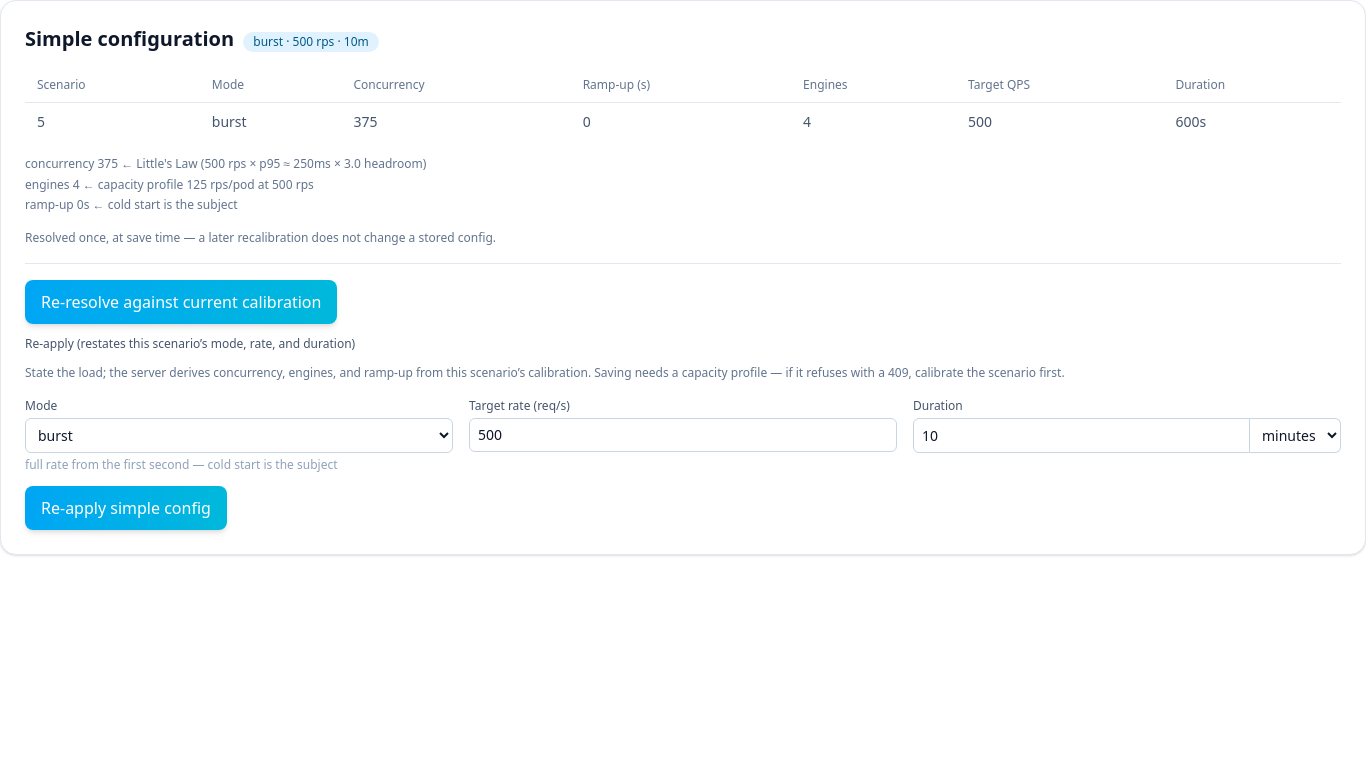
it: ModeConfigCard re-resolve (phase 91) › confirms inline, POSTs the re-resolve, and renders the old → new diff
Click the button with test id "mode-reresolve". click: (181, 302)
box: [25,280,337,324]
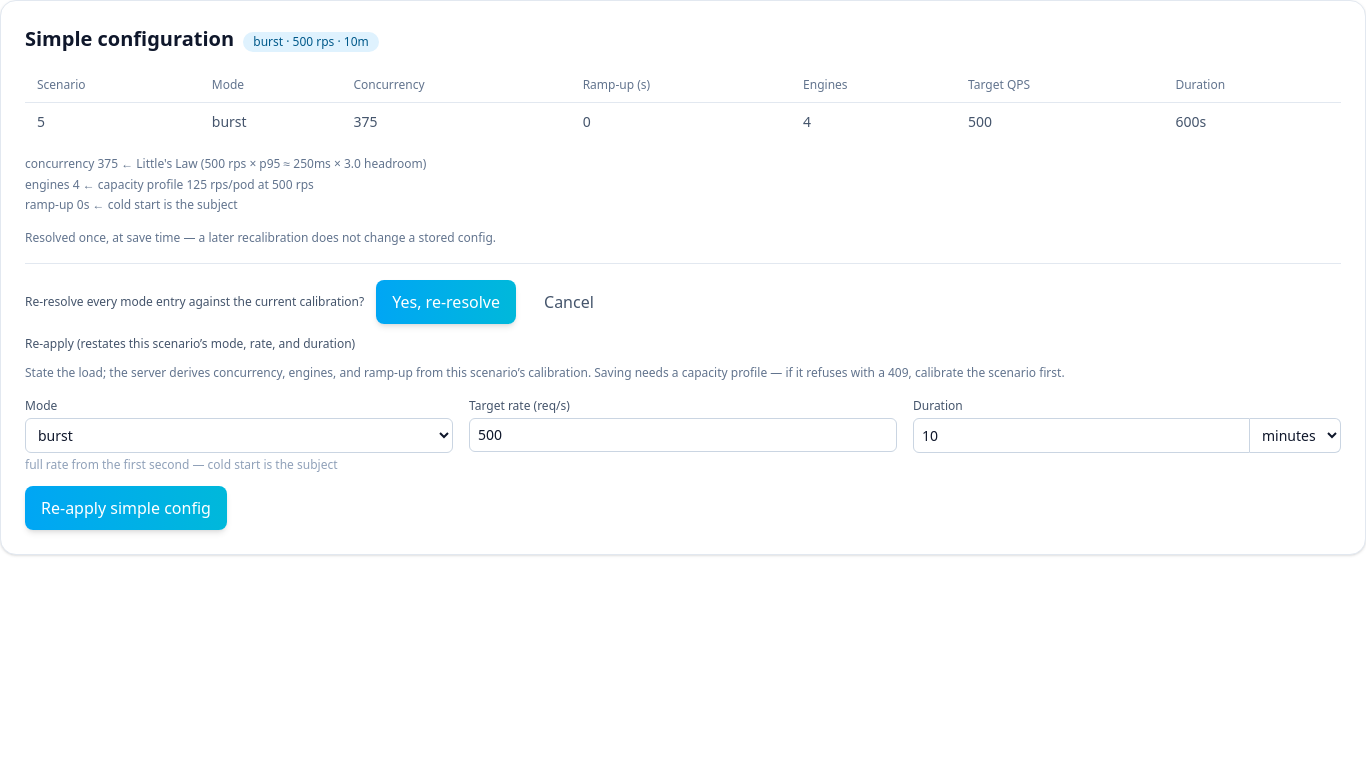
Result: the button with test id "mode-reresolve-confirm" is shown at [376,280,516,324]
Click the button with test id "mode-reresolve-cancel". click: (569, 302)
box: [528,280,610,324]
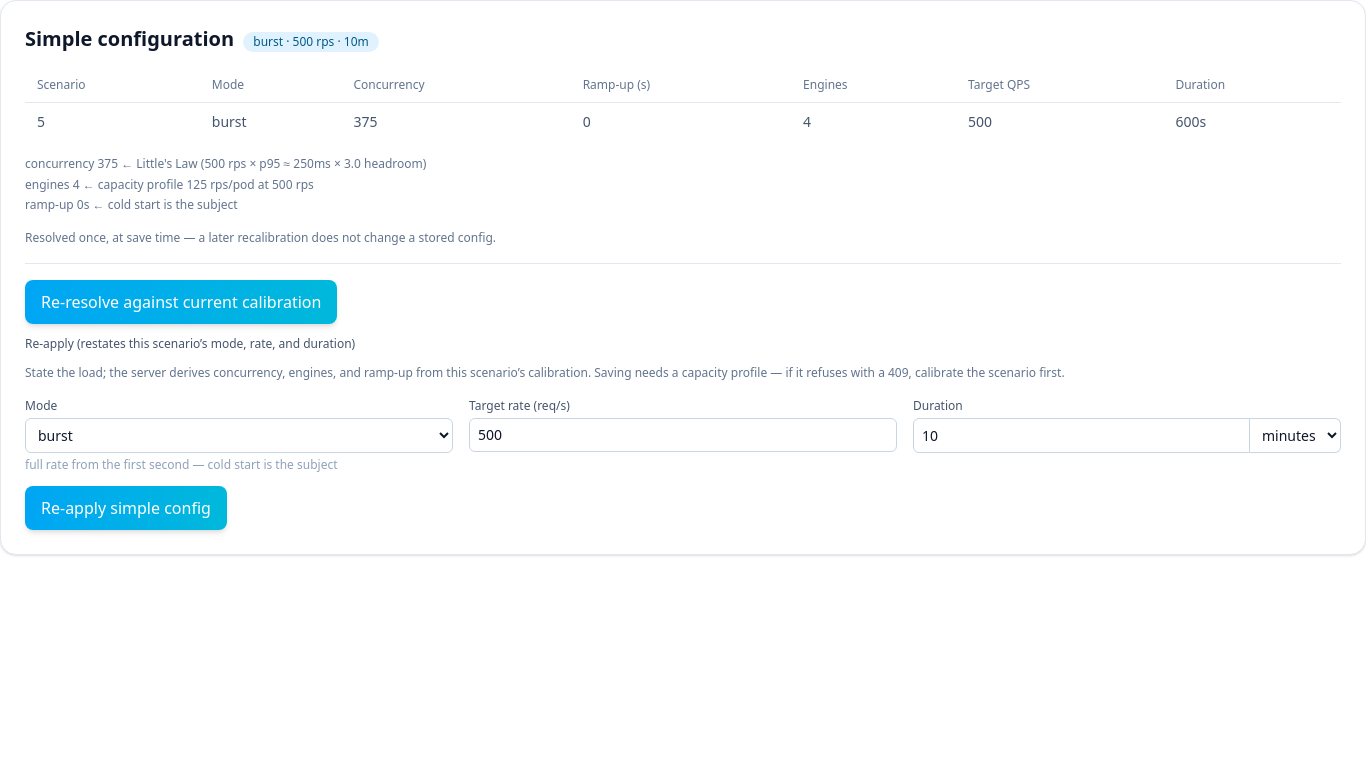
Result: the button with test id "mode-reresolve-confirm" is gone
Click the button with test id "mode-reresolve". click: (181, 302)
box: [25,280,337,324]
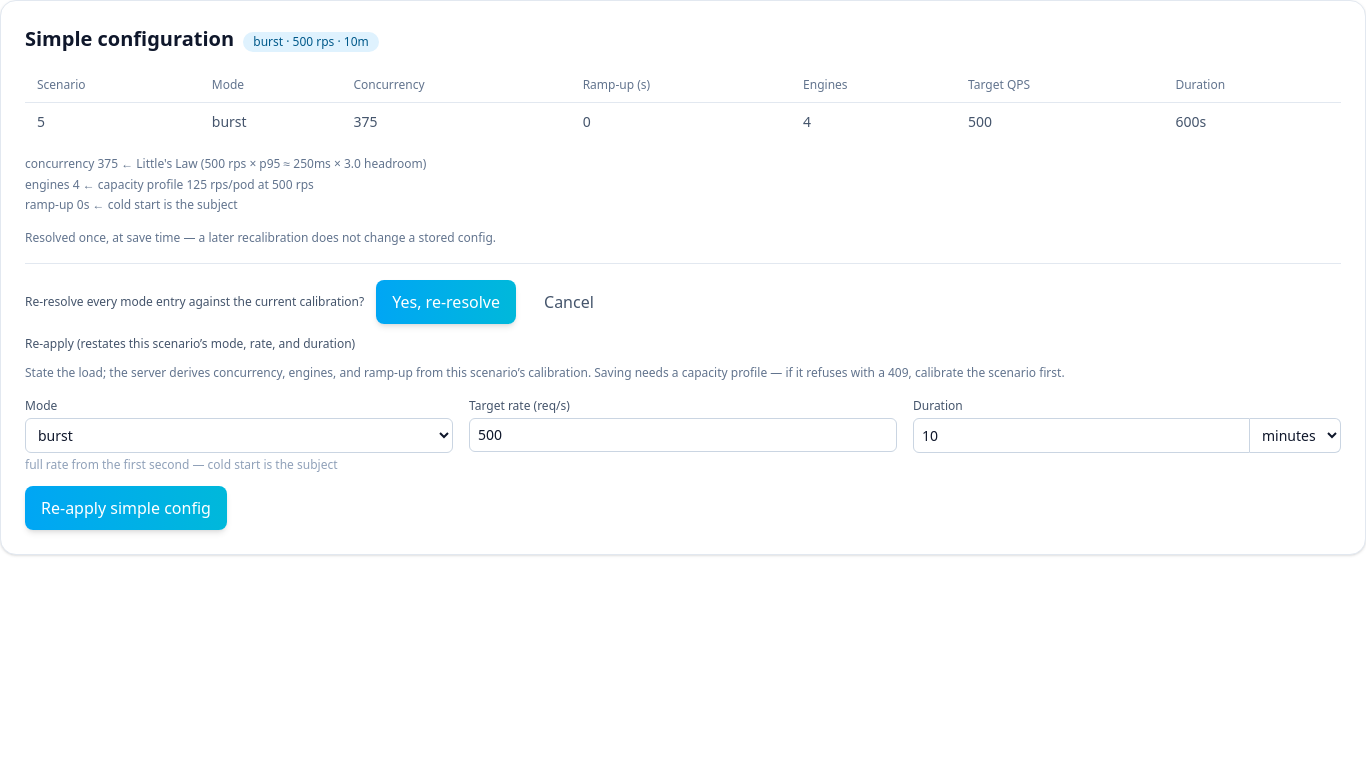
Click the button with test id "mode-reresolve-confirm". click: (446, 302)
box: [376,280,516,324]
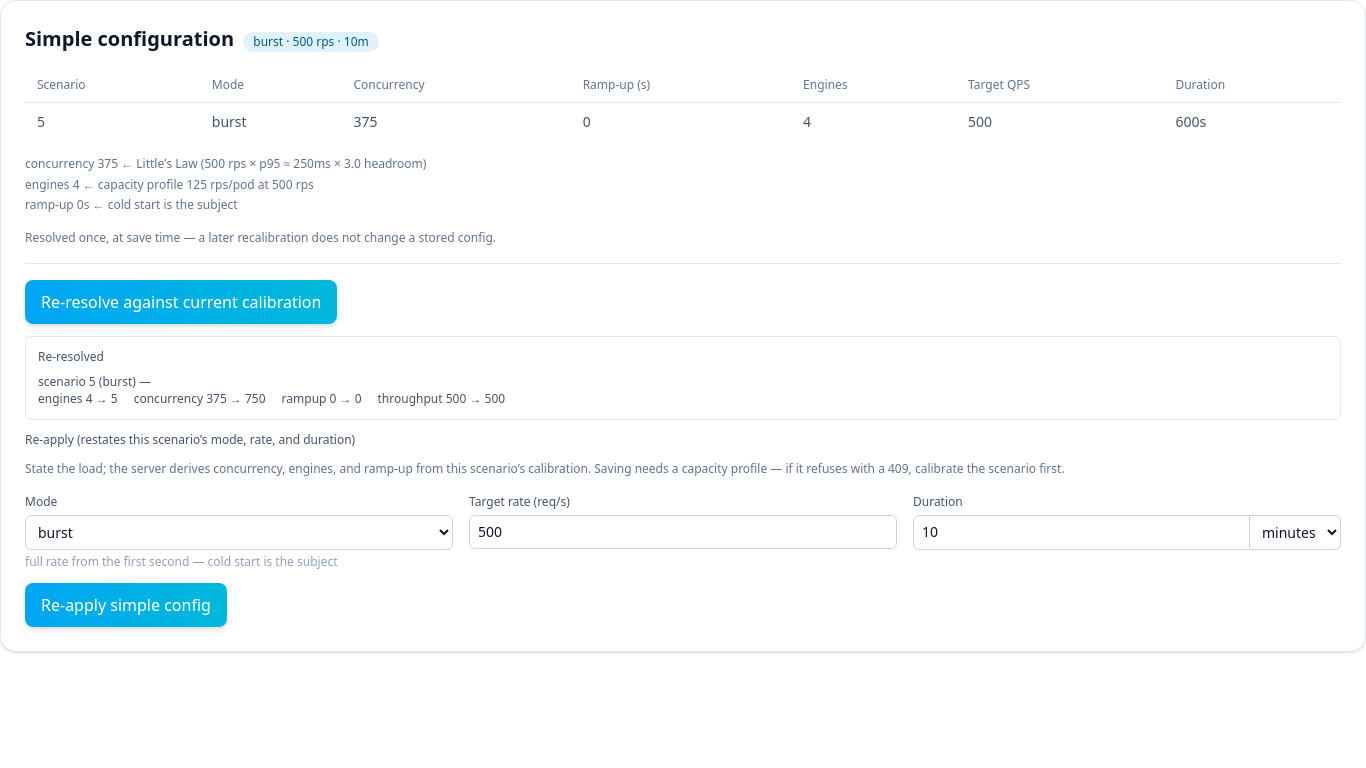
Result: the element with test id "mode-reresolve-diff" shows "engines 4 → 5" at [38,390,118,407]
Result: the element with test id "mode-reresolve-diff" shows "concurrency 375 → 750" at [134,390,266,407]
Result: the element with test id "mode-reresolve-diff" shows "rampup 0 → 0" at [282,390,362,407]
